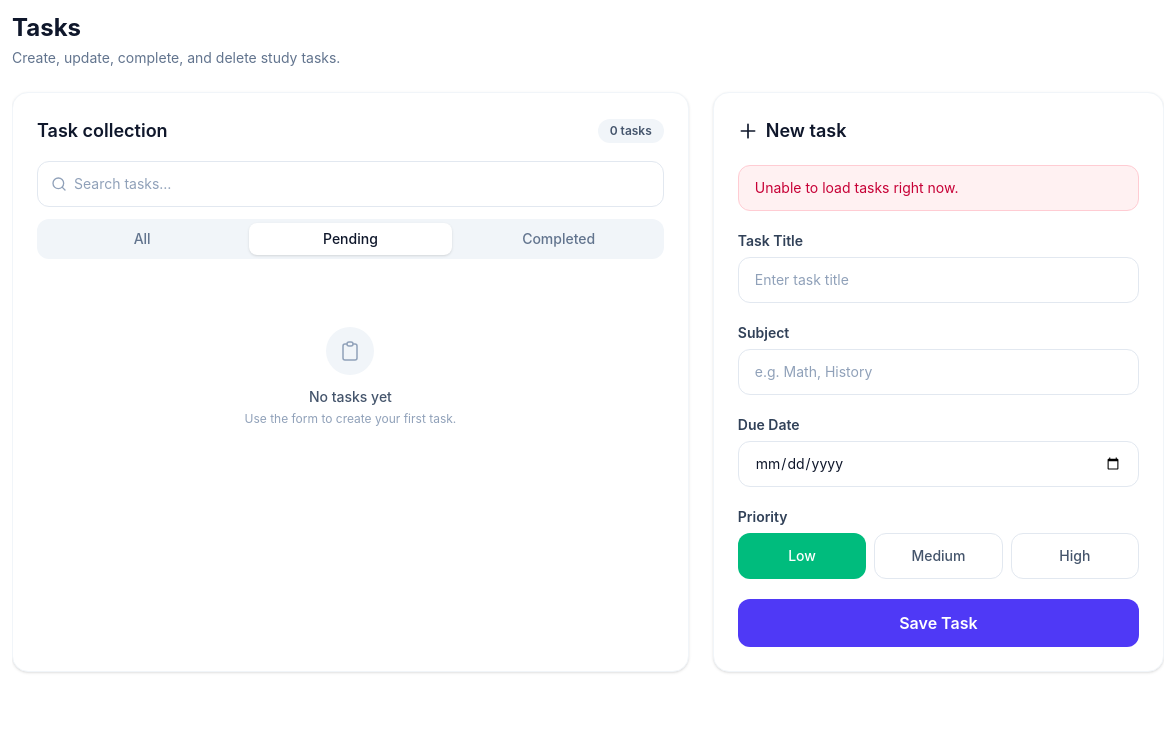
AddTaskPage › clears a stale load error after a later successful reload
Expected: the text "Unable to load tasks right now." is shown, left=738, top=165, right=1139, bottom=211
Click the button "All" at [142, 239], box left=41, top=223, right=243, bottom=255
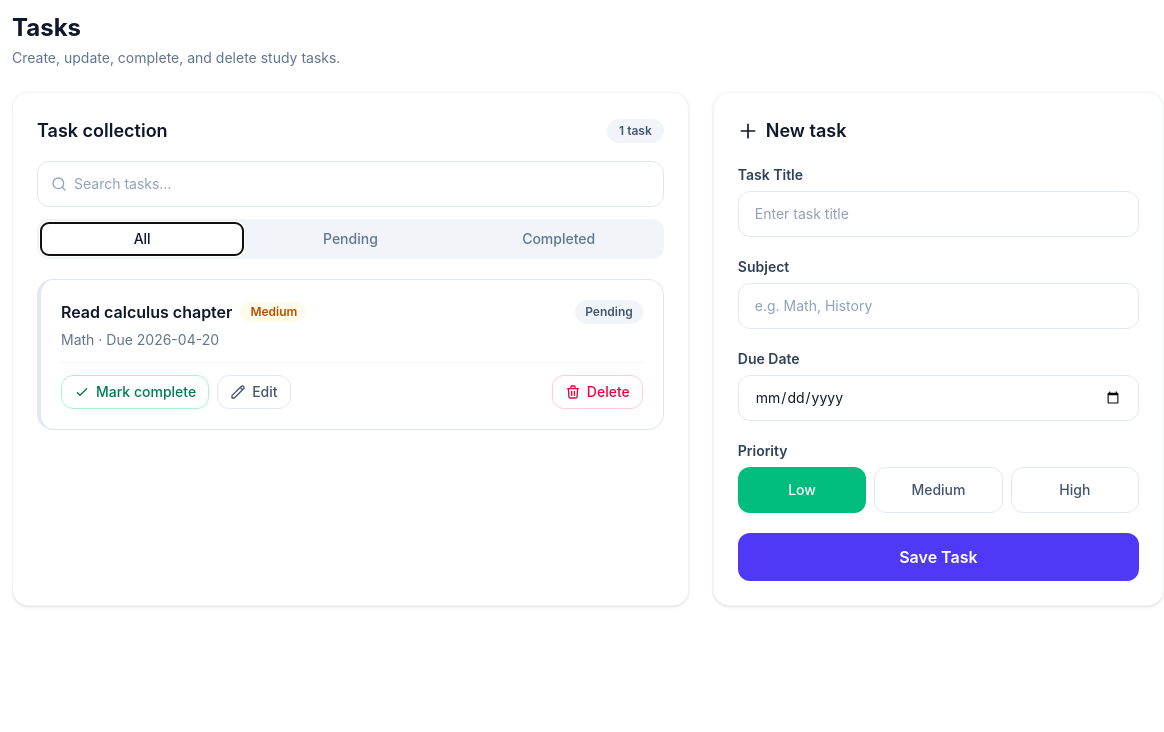
Now the heading "Read calculus chapter" is shown, box left=61, top=300, right=232, bottom=324
Now the text "Unable to load tasks right now." is gone
